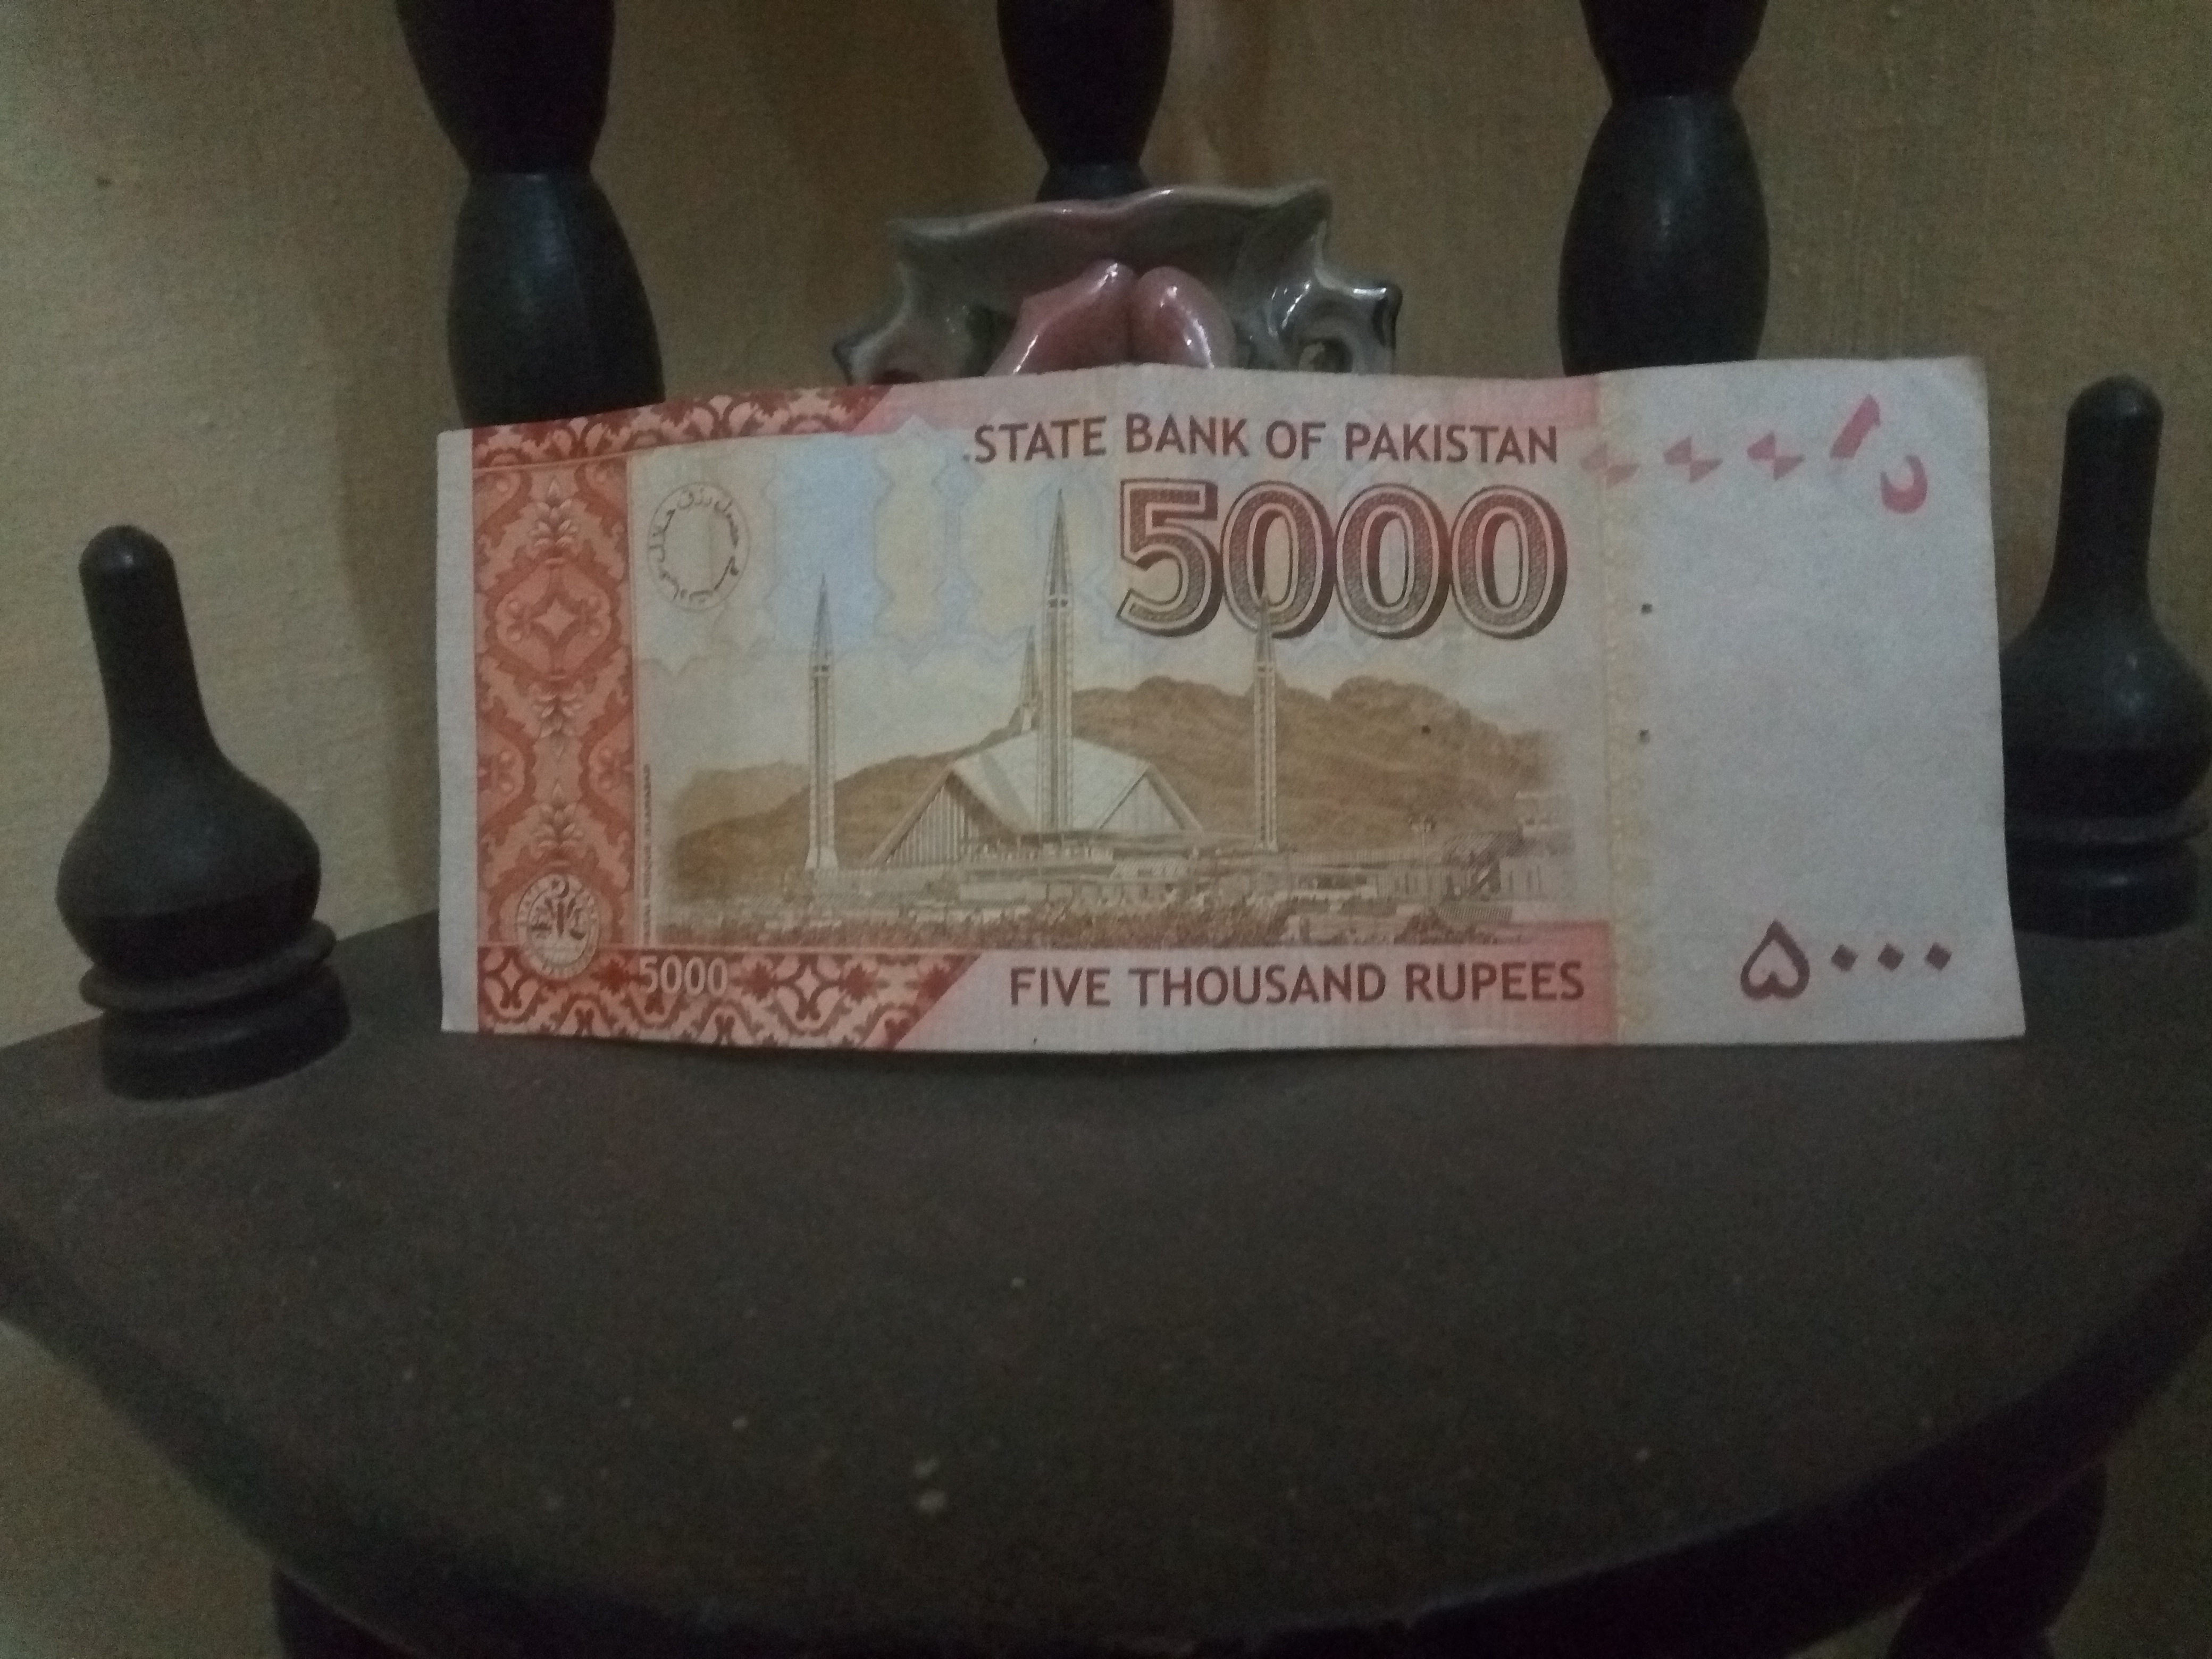5000 rupee: (350, 361, 2080, 1070)
